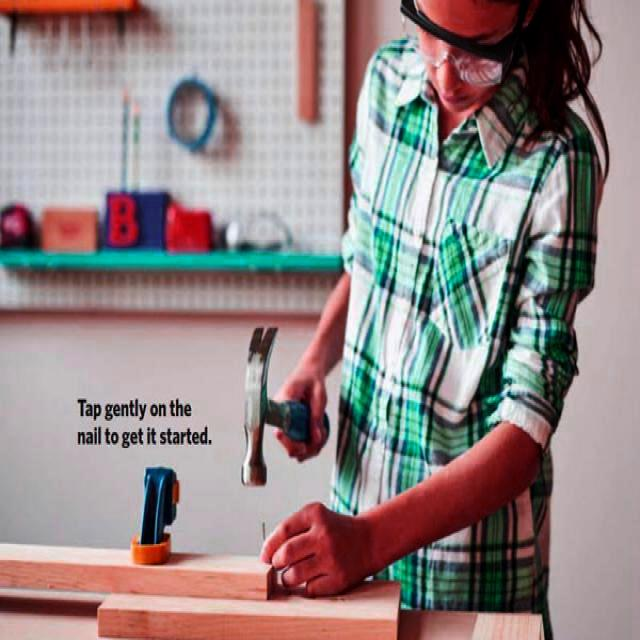hammer: (235, 313, 336, 492)
